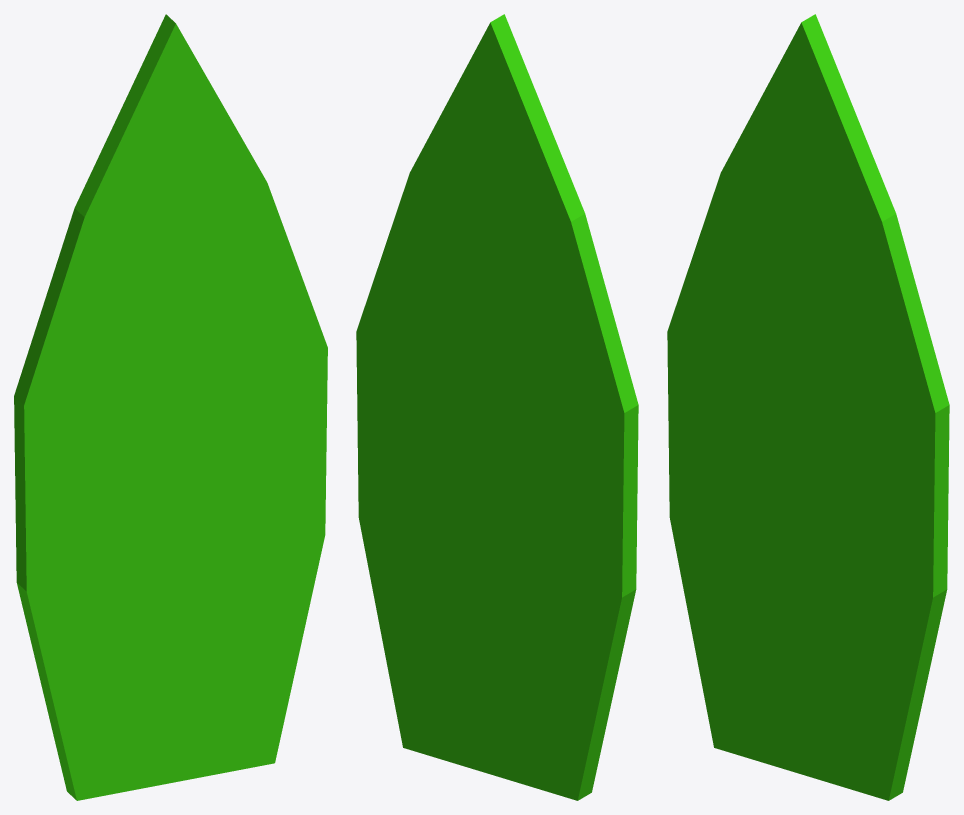
Rendered from Rigged Grass Export 61.fbx.
3 renders of one model, left to right at view 1: azimuth 30°, elevation 25°; view 2: azimuth 150°, elevation 25°; view 3: azimuth 330°, elevation 25°, orthographic.
Visible parts, largest first — view 1: Grass 2 Right Right 1; view 2: Grass 2 Right Right 1; view 3: Grass 2 Right Right 1.
Boxes of the visible parts, x1,y1,x2,y2 form: Grass 2 Right Right 1: [14, 14, 327, 800]; Grass 2 Right Right 1: [356, 14, 638, 800]; Grass 2 Right Right 1: [667, 14, 949, 800].
Bounding box in the file's own units: 141 × 353 × 24.39.
